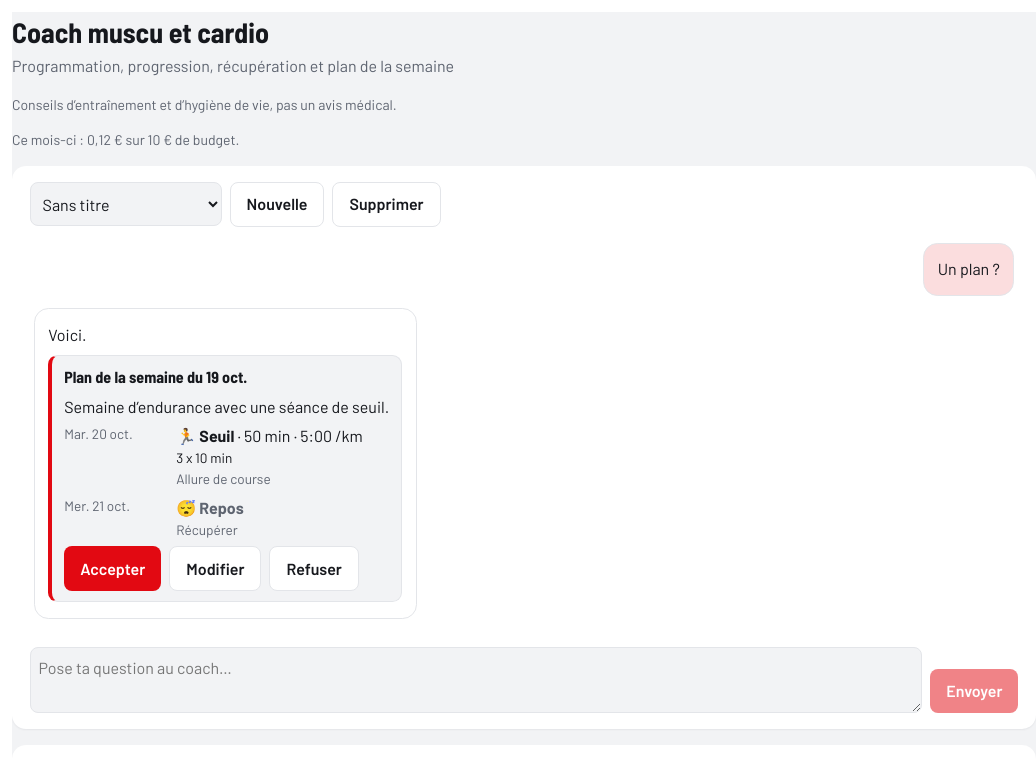
Scenario: CoachPage plans › « Modifier » starts a message to the coach
Click the button "Modifier" at point(215, 569), box top-left (169, 546), bottom-right (261, 592)
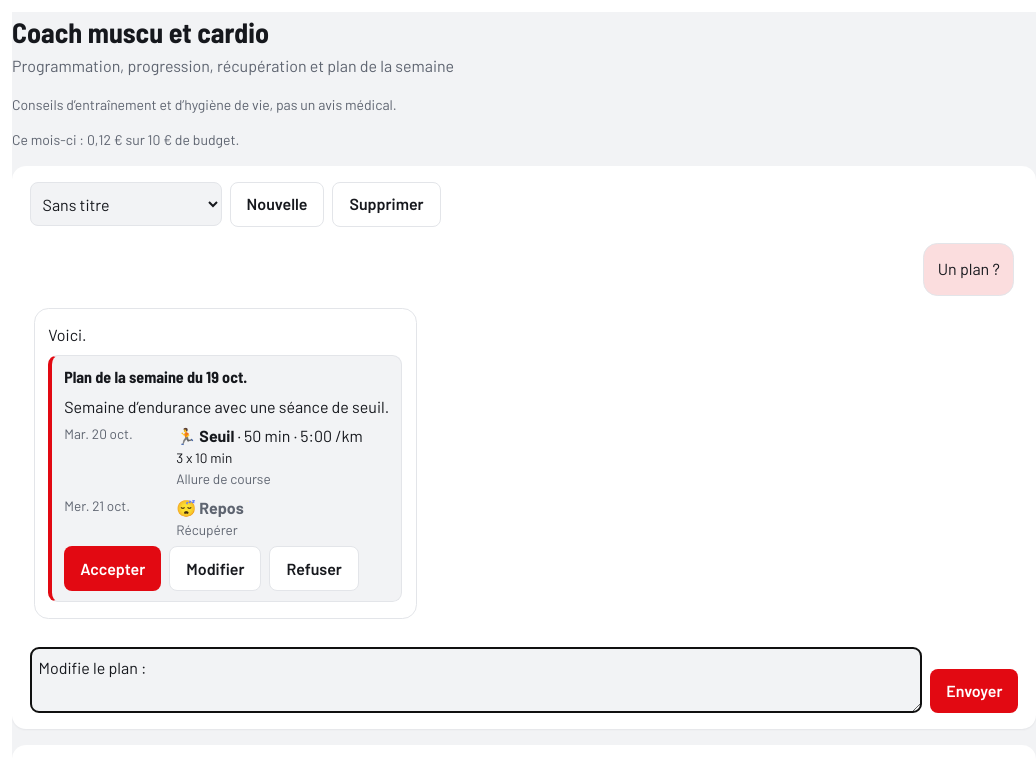
Expected: the text box named "ta question" holds "Modifie le plan : ", top-left (30, 647), bottom-right (922, 713)
